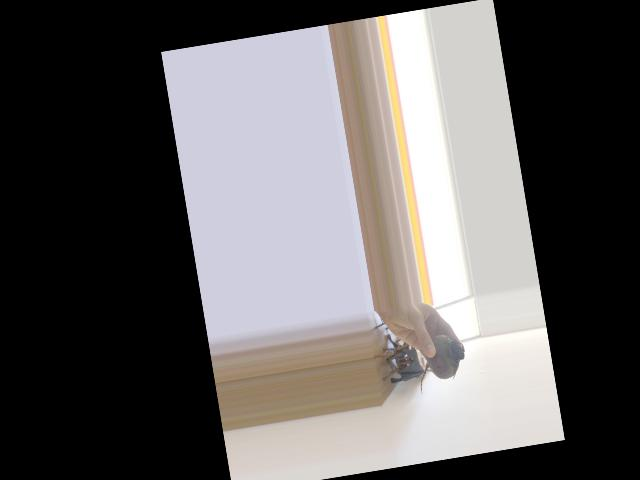beet: (412, 331, 470, 395)
